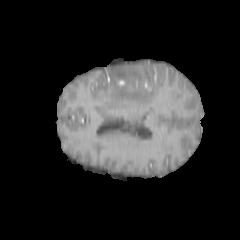glioma: (105, 62, 157, 106)
